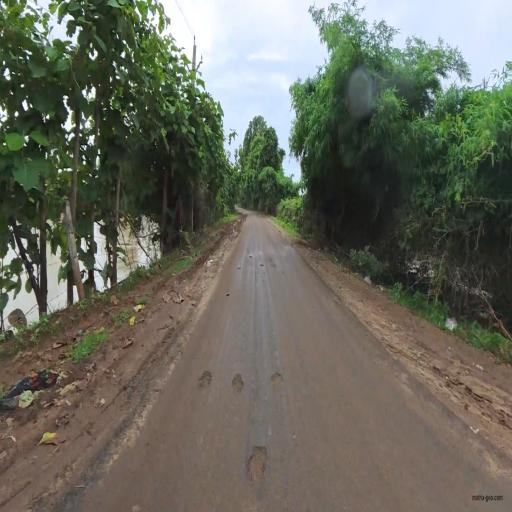pothole: (188, 340, 306, 512)
